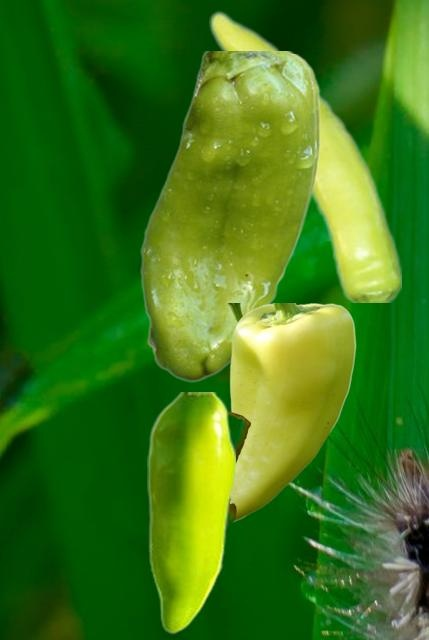green_chili: (140, 51, 315, 381), (209, 9, 400, 301), (226, 303, 355, 522), (147, 392, 234, 633), (280, 54, 319, 282)
